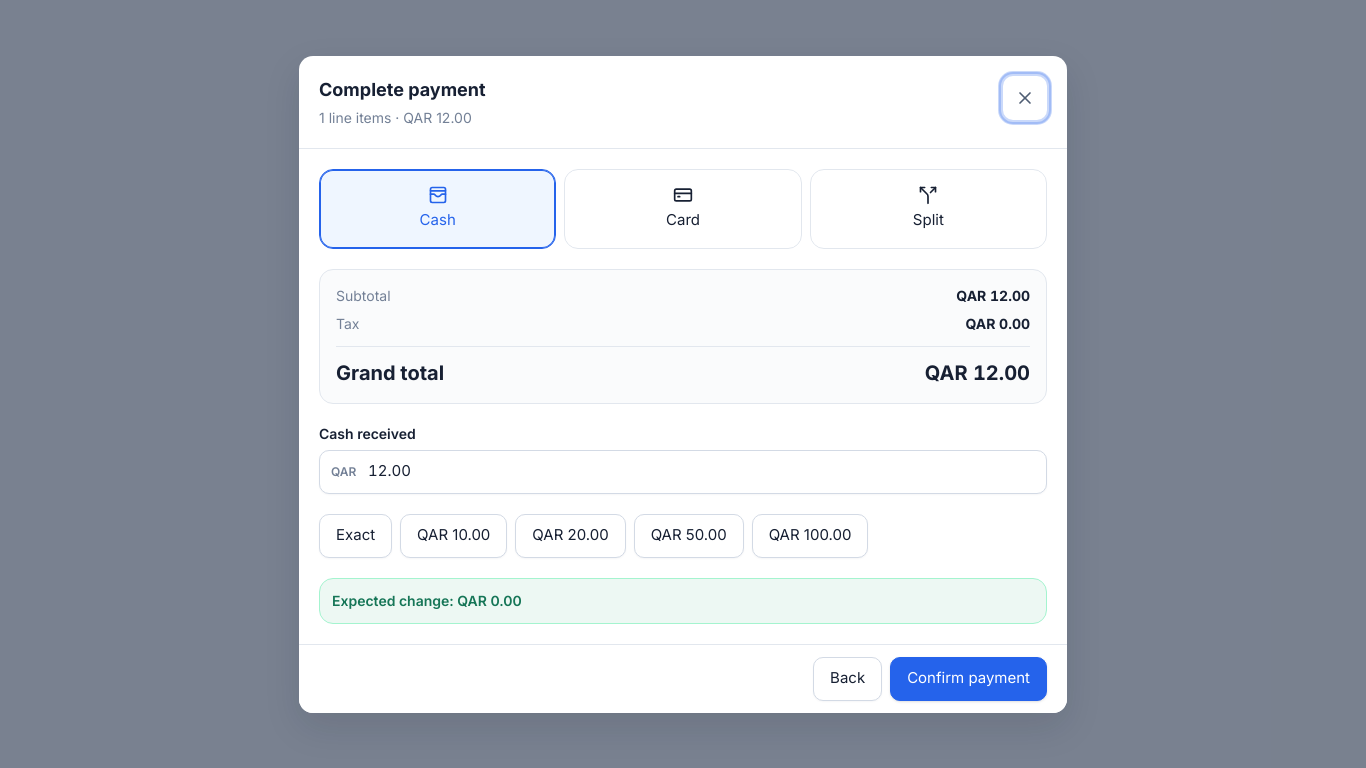
Test: PaymentDialog › rejects cash underpayment before sending a request
Replace the text in the field labelled "Cash received" with "10.00": coordinates (683, 472) [319,450,1047,494]
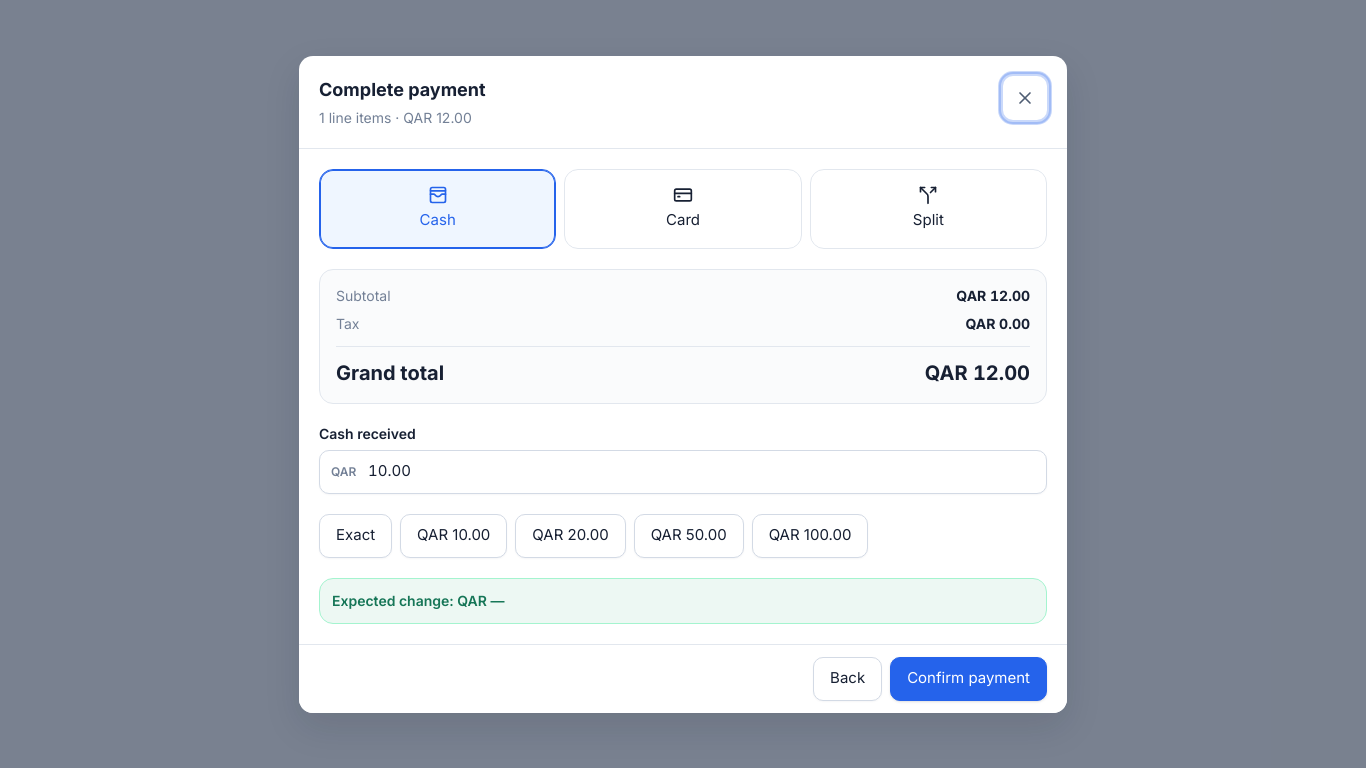
Click the button "Confirm payment": coordinates (969, 678) [890,656,1047,700]
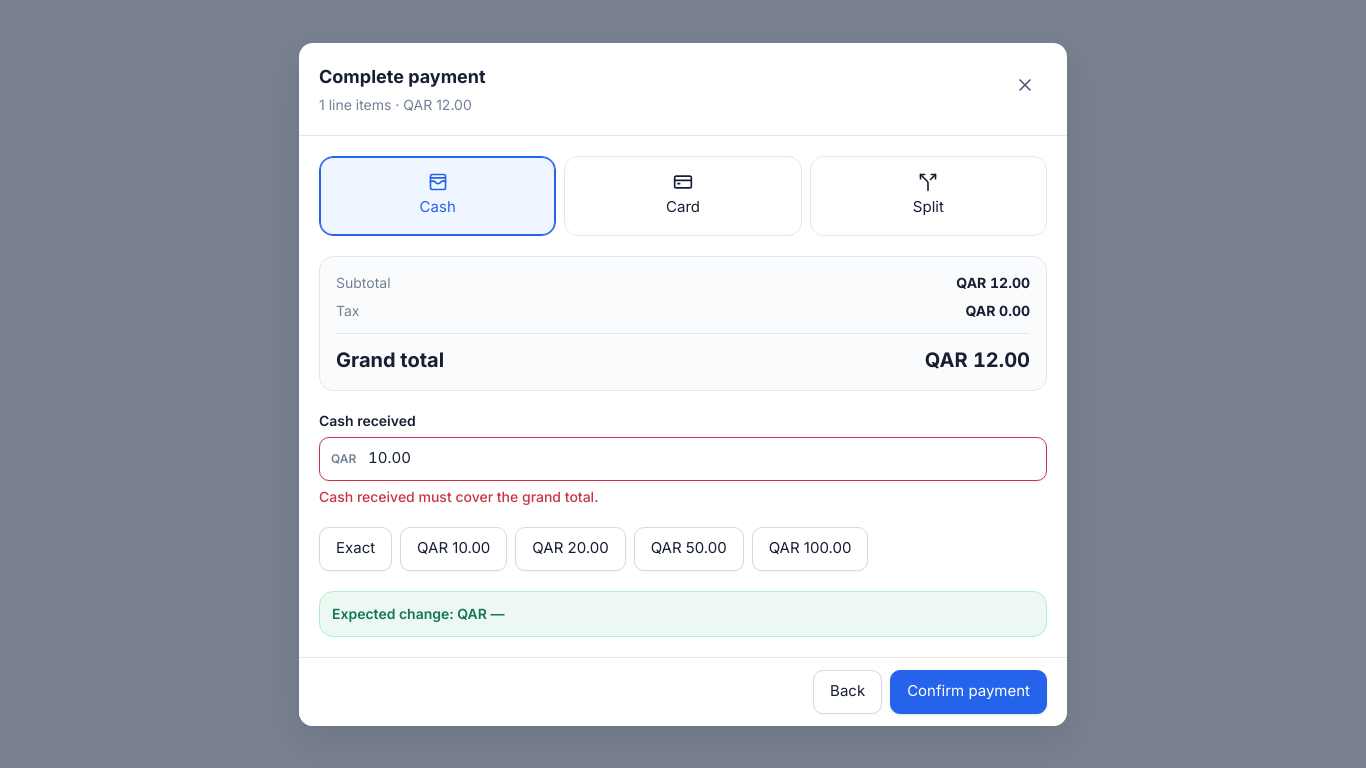
Now the text "Cash received must cover the grand total." is shown, box [319,488,598,504]
